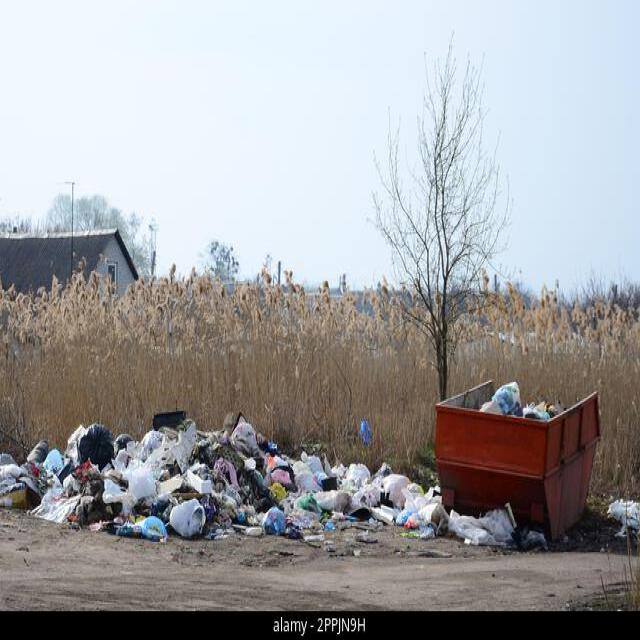trash: (33, 414, 425, 546), (474, 379, 561, 424)
